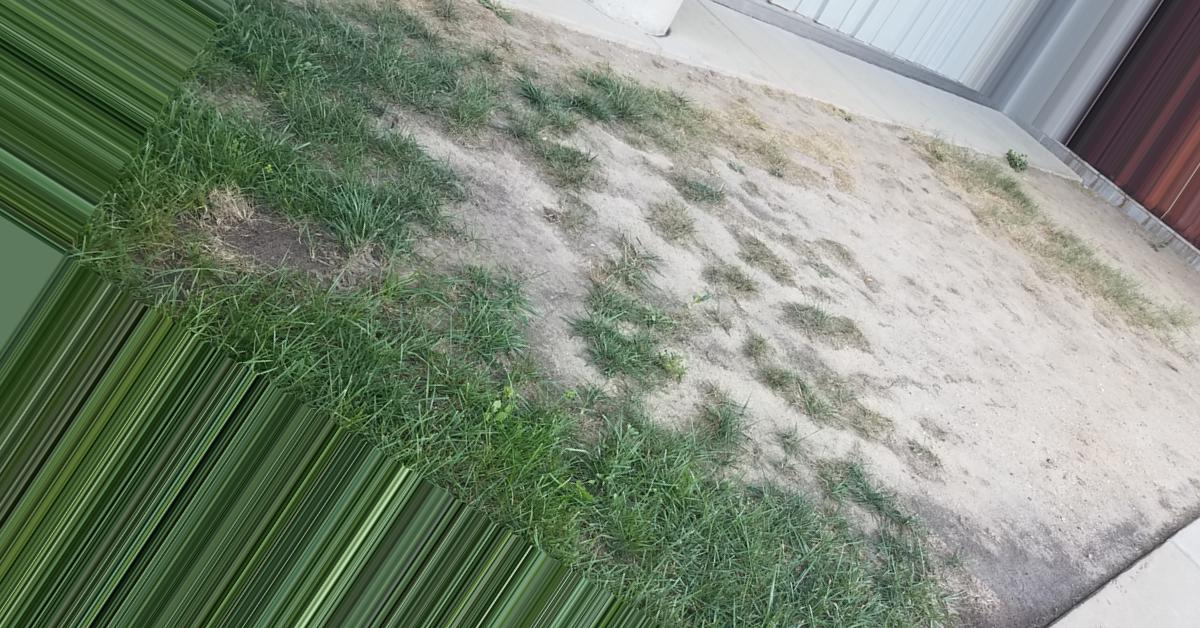patch: (843, 158, 1129, 518), (599, 160, 823, 424), (452, 154, 581, 285)
